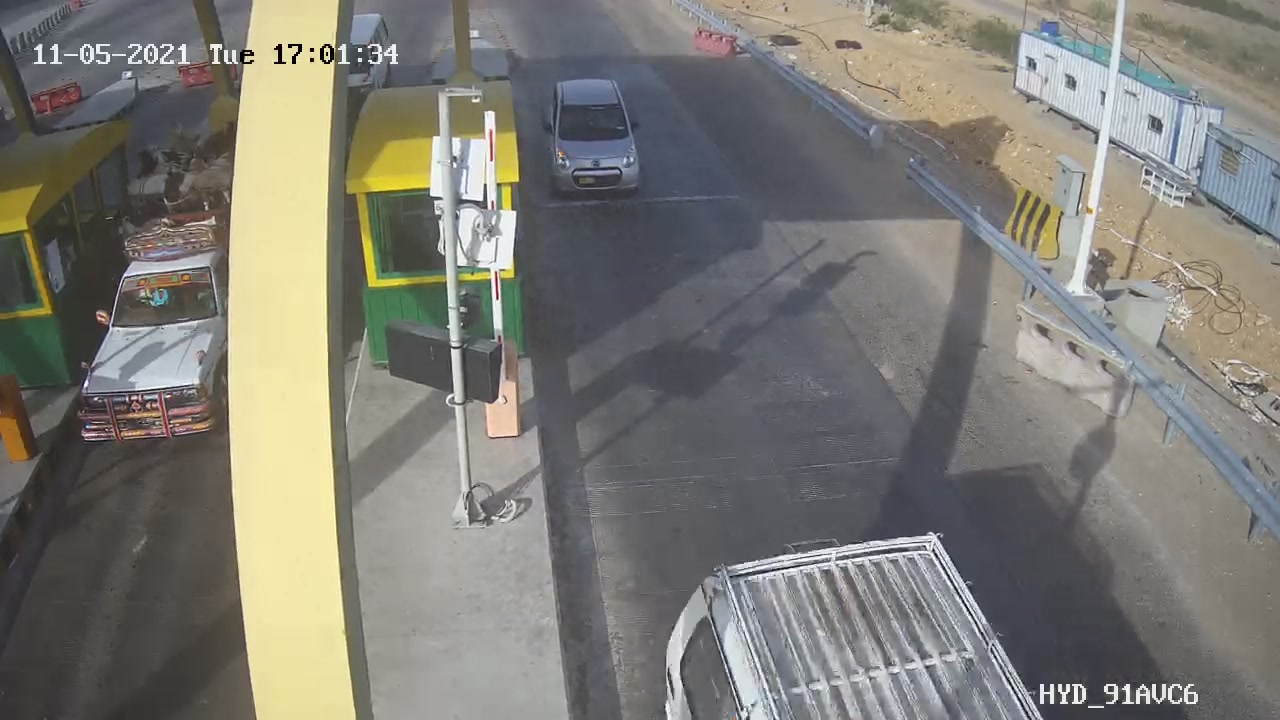F1: (530, 65, 663, 209)
